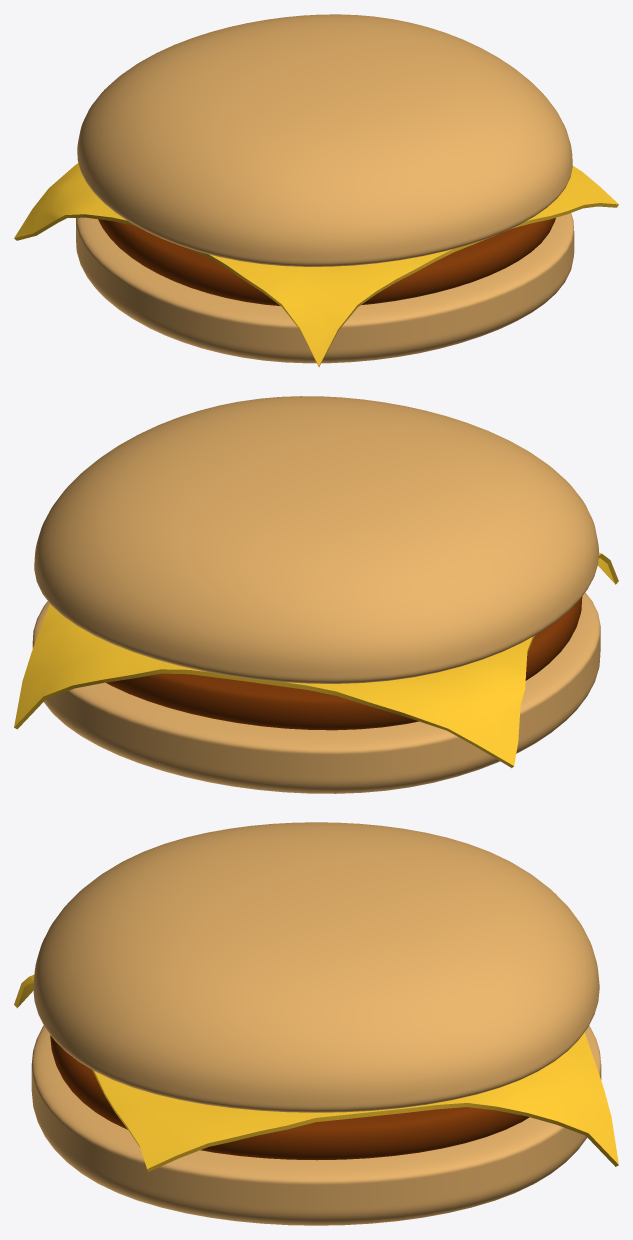
Rendered from hamburger.glb.
3 renders of one model, top to bottom at view 1: azimuth 30°, elevation 25°; view 2: azimuth 150°, elevation 25°; view 3: azimuth 270°, elevation 25°, orthographic. The views are drawn at different scales.
Parts seen in each view (by area): view 1: Cubo.002, Cubo.001, Piano, Cubo; view 2: Cubo.002, Cubo.001, Piano, Cubo; view 3: Cubo.002, Cubo.001, Piano, Cubo.
Part boxes in pixels (box(x1,y1,x2,y2)): Cubo.002: box(77, 14, 572, 266); Cubo.001: box(76, 213, 574, 363); Piano: box(14, 163, 618, 366); Cubo: box(98, 218, 555, 305); Cubo.002: box(34, 396, 598, 683); Cubo.001: box(32, 592, 600, 793); Piano: box(14, 552, 618, 767); Cubo: box(106, 596, 582, 730); Cubo.002: box(33, 822, 599, 1112); Cubo.001: box(31, 1025, 601, 1225); Piano: box(14, 975, 618, 1171); Cubo: box(50, 1035, 529, 1160).
Size of the model in its own units: 10.05 by 4.47 by 9.74.
